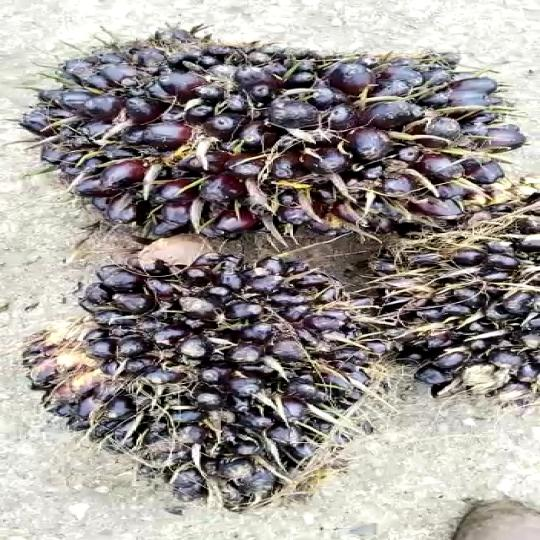mentah: (13, 32, 540, 238), (19, 248, 406, 520)
